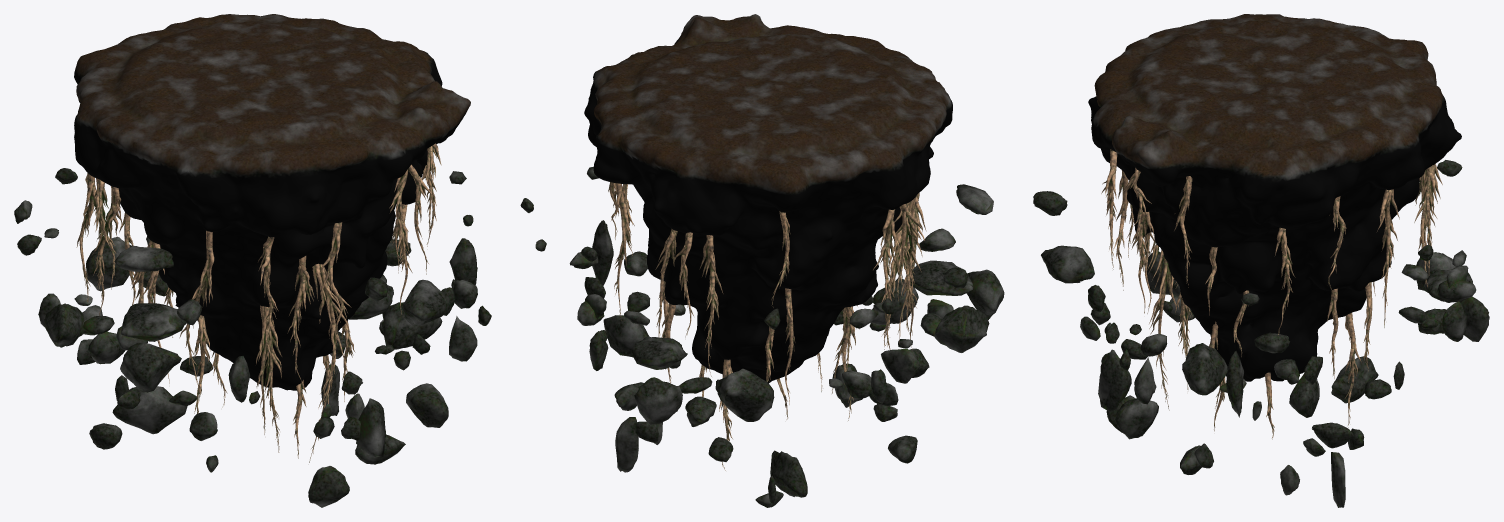
The model's file is floatingisland.glb.
3 renders of one model, left to right at view 1: azimuth 30°, elevation 25°; view 2: azimuth 150°, elevation 25°; view 3: azimuth 270°, elevation 25°, orthographic. The views are drawn at different scales.
Parts seen in each view (by area): view 1: Island, Rocks, Roots_Roots_0; view 2: Island, Rocks, Roots_Roots_0; view 3: Island, Rocks, Roots_Roots_0.
Part boxes in pixels (x1=…): Island: x1=74, y1=14, x2=470, y2=390; Rocks: x1=14, y1=168, x2=491, y2=507; Roots_Roots_0: x1=76, y1=143, x2=441, y2=462; Island: x1=584, y1=14, x2=952, y2=383; Rocks: x1=520, y1=166, x2=1004, y2=507; Roots_Roots_0: x1=608, y1=182, x2=926, y2=470; Island: x1=1088, y1=14, x2=1461, y2=381; Rocks: x1=1033, y1=160, x2=1489, y2=507; Roots_Roots_0: x1=1101, y1=149, x2=1442, y2=439.
Size of the model in its own units: 35.67 by 31.28 by 32.74.
Materials: 3 (3 with a texture image).
